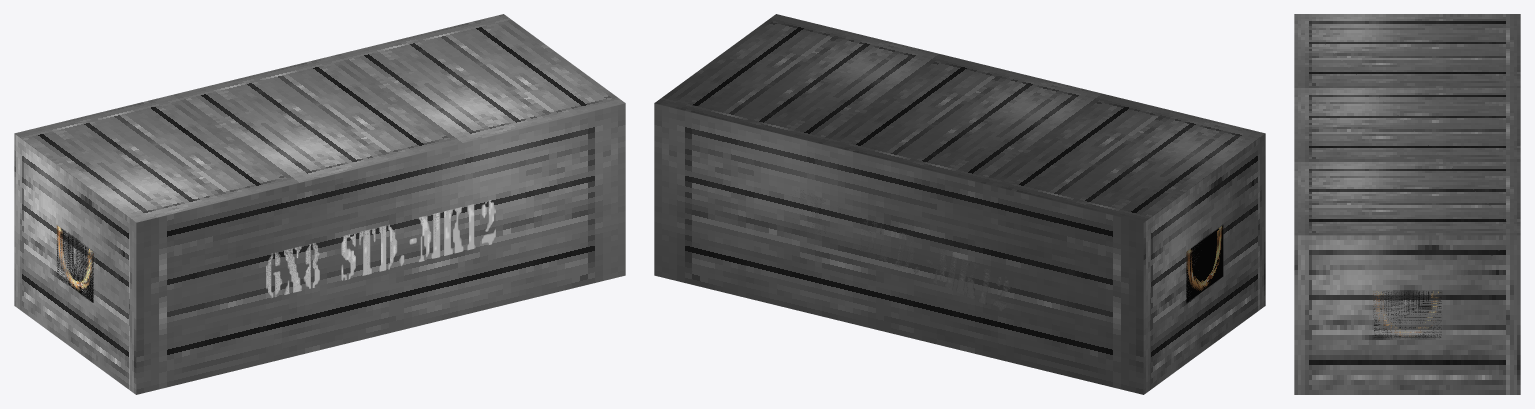
Rendered from Pammo_crate4Z.obj.
3 renders of one model, left to right at view 1: azimuth 30°, elevation 25°; view 2: azimuth 150°, elevation 25°; view 3: azimuth 270°, elevation 25°, orthographic. The views are drawn at different scales.
Bounding box in the file's own units: 1214 × 408 × 524.
Materials: 5 (5 with a texture image).
